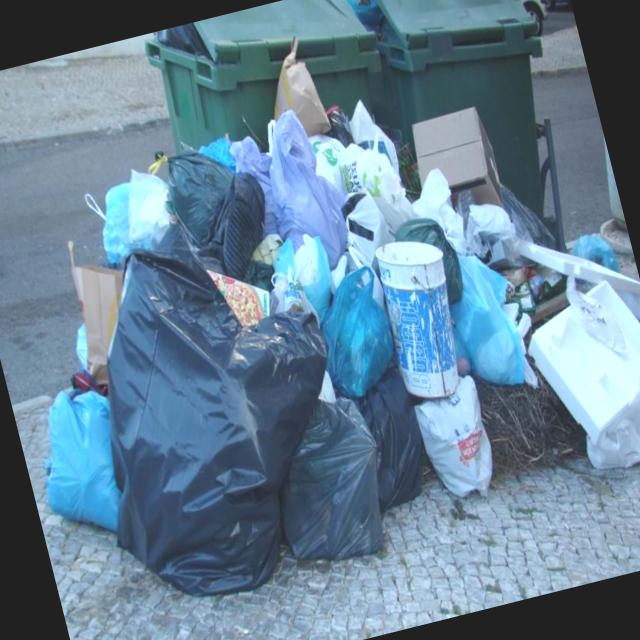garbage: (0, 2, 640, 637)
